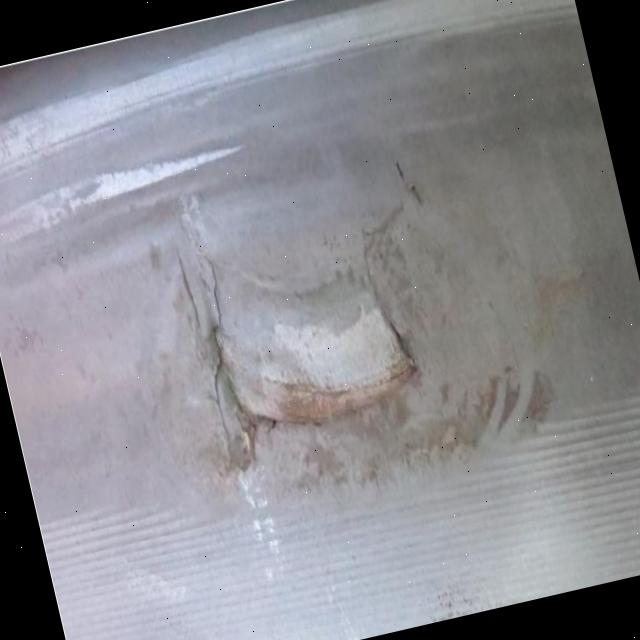Contact_Fatigue_Cracks: (171, 246, 257, 452)
